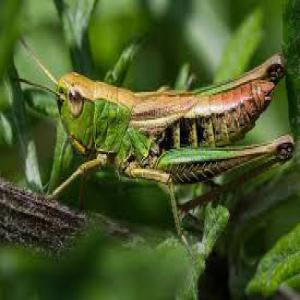locust: (33, 47, 300, 170)
